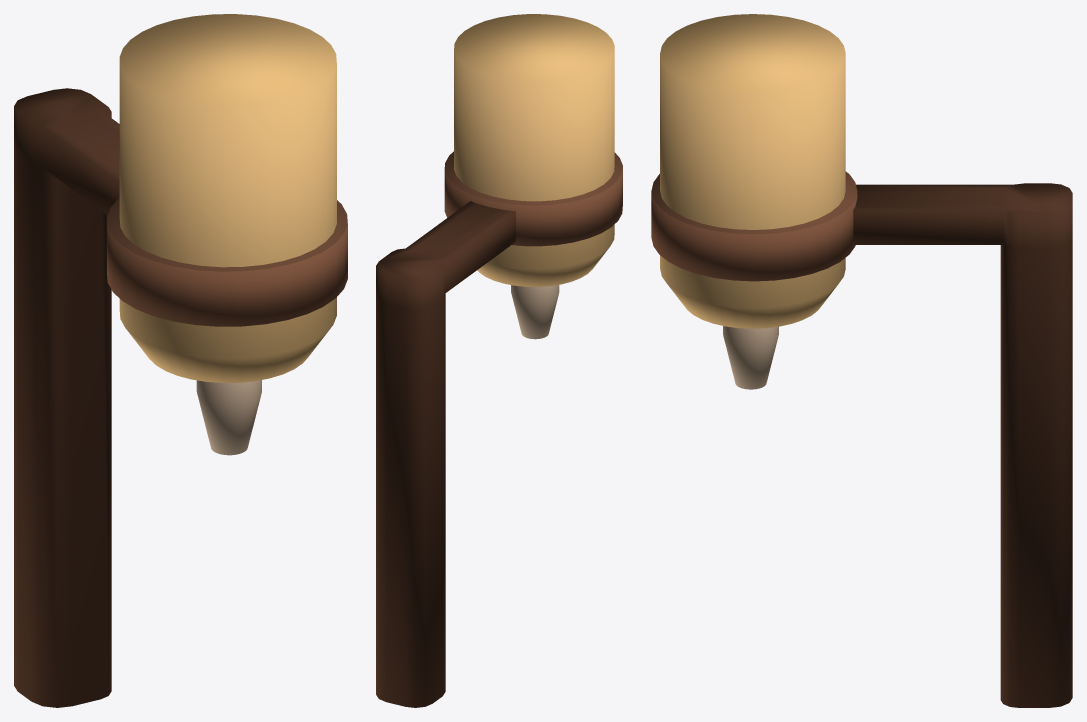
File: Sauce.fbx
3 views of the same model, side by side, from view 1: azimuth 30°, elevation 25°; view 2: azimuth 150°, elevation 25°; view 3: azimuth 270°, elevation 25° (orthographic). The views are drawn at different scales.
Visible parts, largest first — view 1: Cylinder.016; view 2: Cylinder.016; view 3: Cylinder.016.
Part boxes in pixels (x1,y1,x2,y2): Cylinder.016: (14,14,347,707); Cylinder.016: (376,14,622,707); Cylinder.016: (651,14,1072,707).
Size of the model in its own units: 200 by 685 by 409.
Materials: 4 (4 with a texture image).
